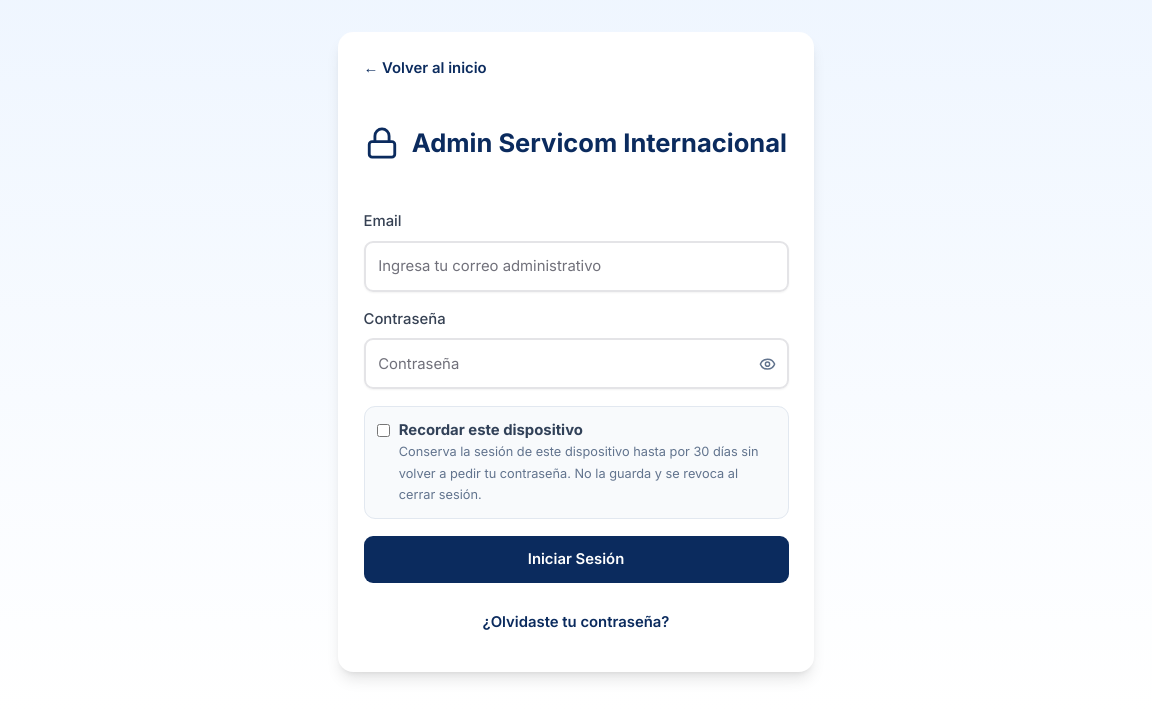
Scenario: AdminDashboard Nueva Encomienda › offers administrative password recovery by the registered email
Click the button "¿Olvidaste tu contraseña?": (576, 623) [483,600,669,646]
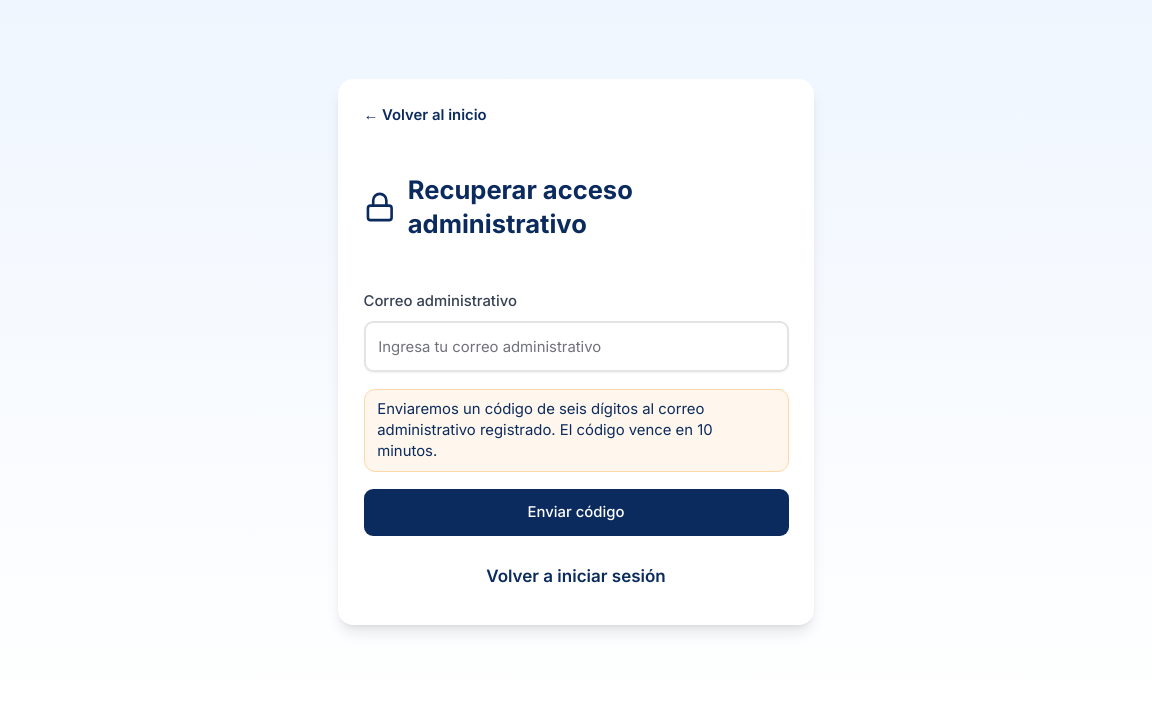
Now the heading "Recuperar acceso administrativo" is shown, box [408,174,633,238]
In the field labelled "Correo administrativo": (576, 347) [364,321,788,372], type "admin@servicom.pe"
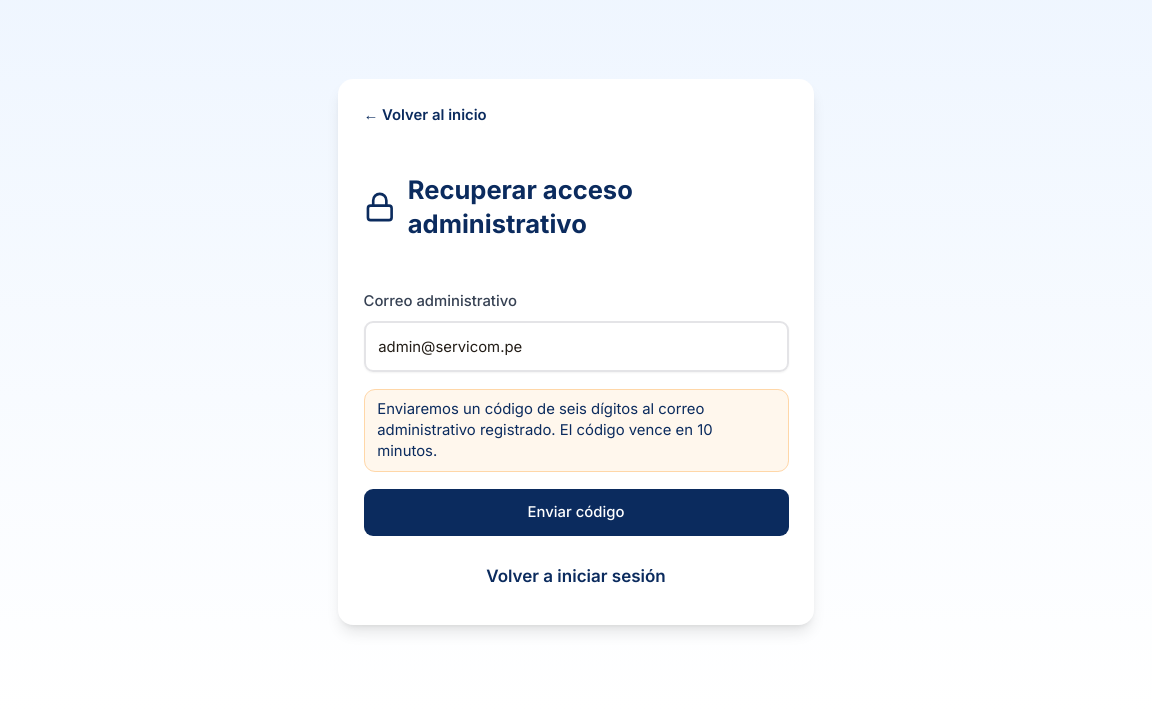
Click the button "Enviar código": (576, 512) [364,489,788,536]
(page scrolled)
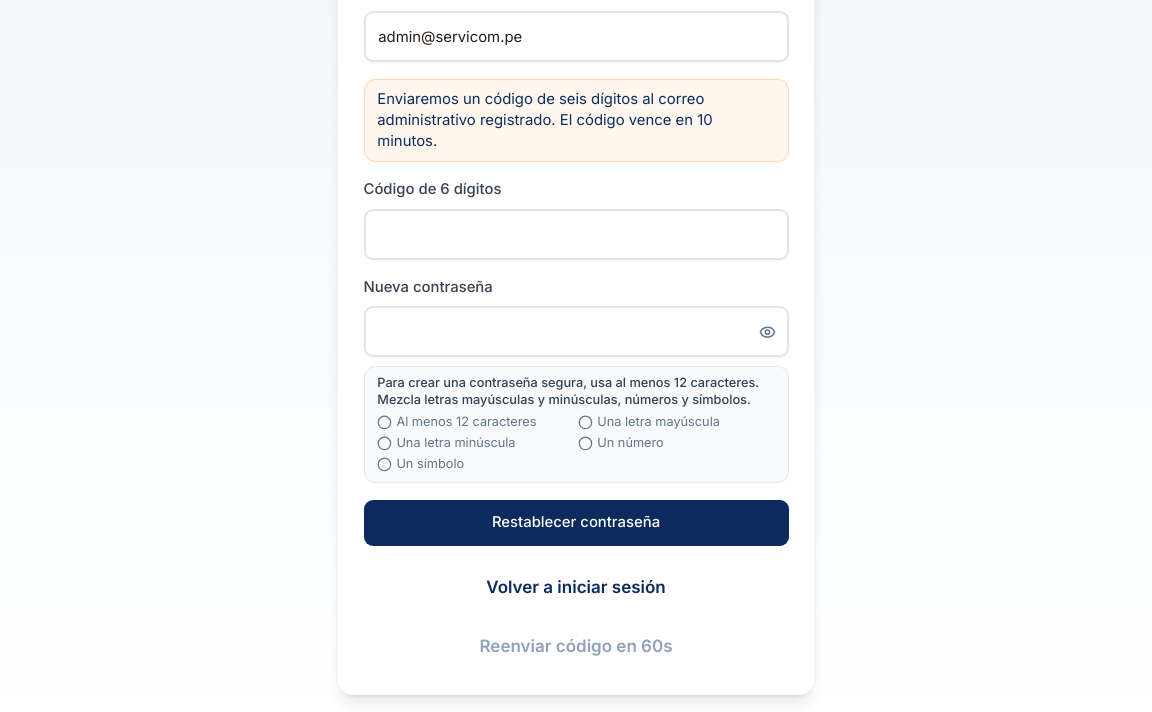
Now the field labelled "Código de 6 dígitos" is shown, box [364,209,788,260]
Now the button "Reenviar código en 60s" is shown, box [480,623,673,670]
